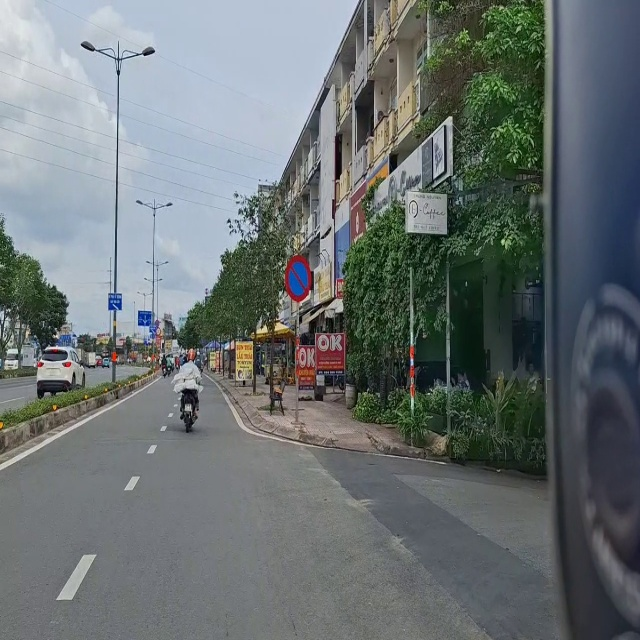cam do xe: (276, 246, 318, 309)
